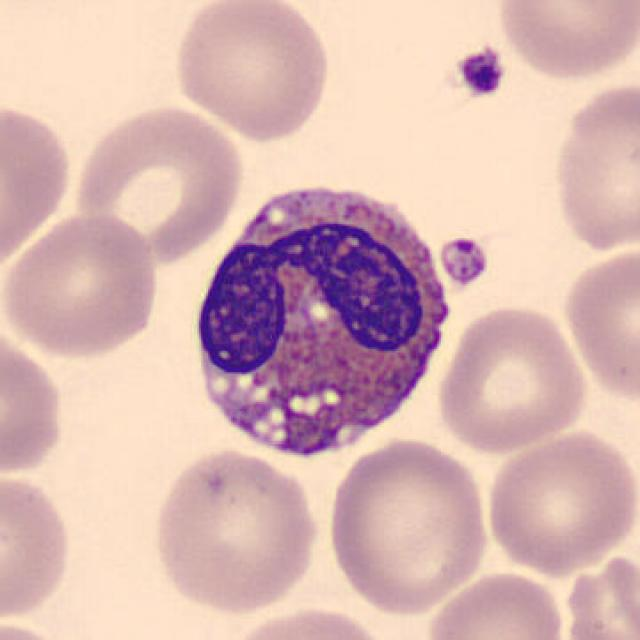Eosinophil: (180, 165, 460, 472)
Platelets: (436, 233, 490, 291), (453, 46, 507, 99)
RBC: (322, 434, 494, 619), (146, 444, 324, 617), (71, 101, 247, 266), (0, 210, 164, 361), (434, 299, 590, 456), (480, 427, 638, 578), (169, 0, 334, 143), (546, 76, 638, 256), (0, 95, 76, 275), (558, 242, 638, 407), (491, 0, 638, 85), (0, 467, 76, 624), (0, 316, 68, 487), (421, 567, 568, 640), (556, 548, 640, 640), (217, 603, 396, 640), (0, 617, 82, 640)
